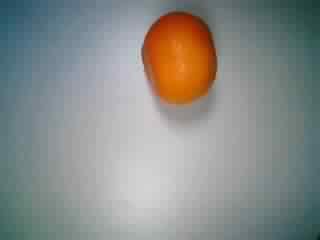orange: (133, 8, 224, 104)
